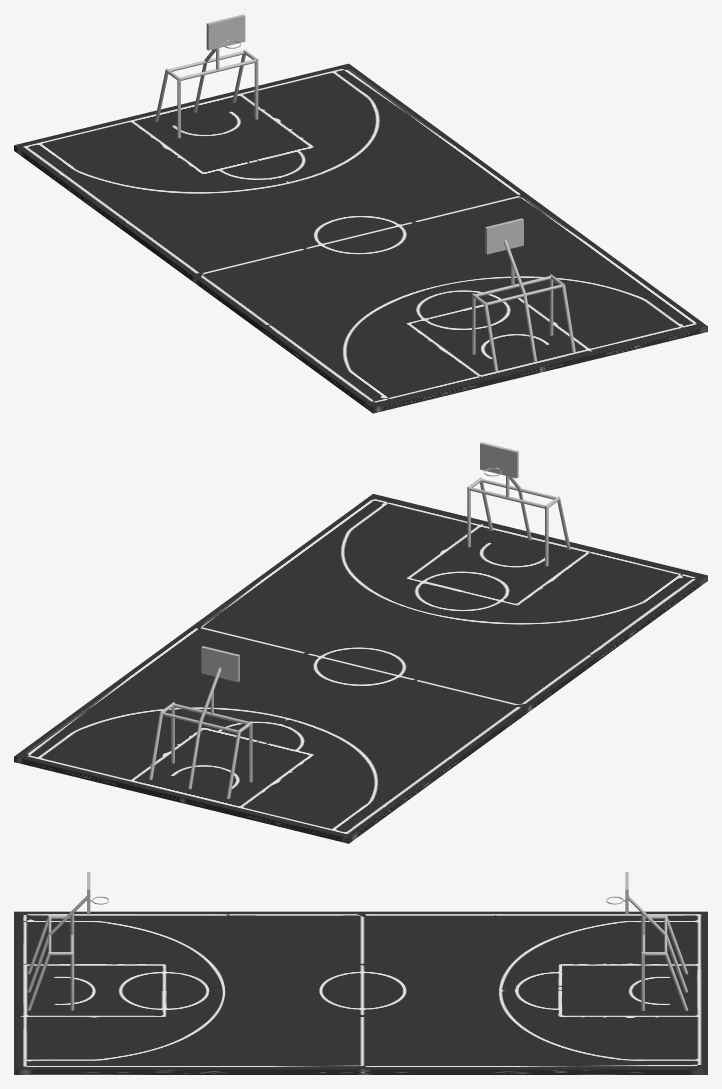
File: foot_court.FBX
3 views of the same model, one above another, from view 1: azimuth 30°, elevation 25°; view 2: azimuth 150°, elevation 25°; view 3: azimuth 270°, elevation 25° (orthographic). The views are drawn at different scales.
Parts seen in each view (by area): view 1: Box001, Line006, Line005; view 2: Box001, Line005, Line006; view 3: Box001, Line006, Line005.
Part boxes in pixels (x1,y1,x2,y2): Box001: (14,63,707,413); Line006: (472,218,575,371); Line005: (155,14,258,138); Box001: (14,494,707,843); Line005: (149,646,252,798); Line006: (467,442,570,566); Box001: (14,911,707,1074); Line006: (27,872,90,1010); Line005: (625,872,688,1010).
Size of the model in its own units: 55.12 by 18.94 by 102.
